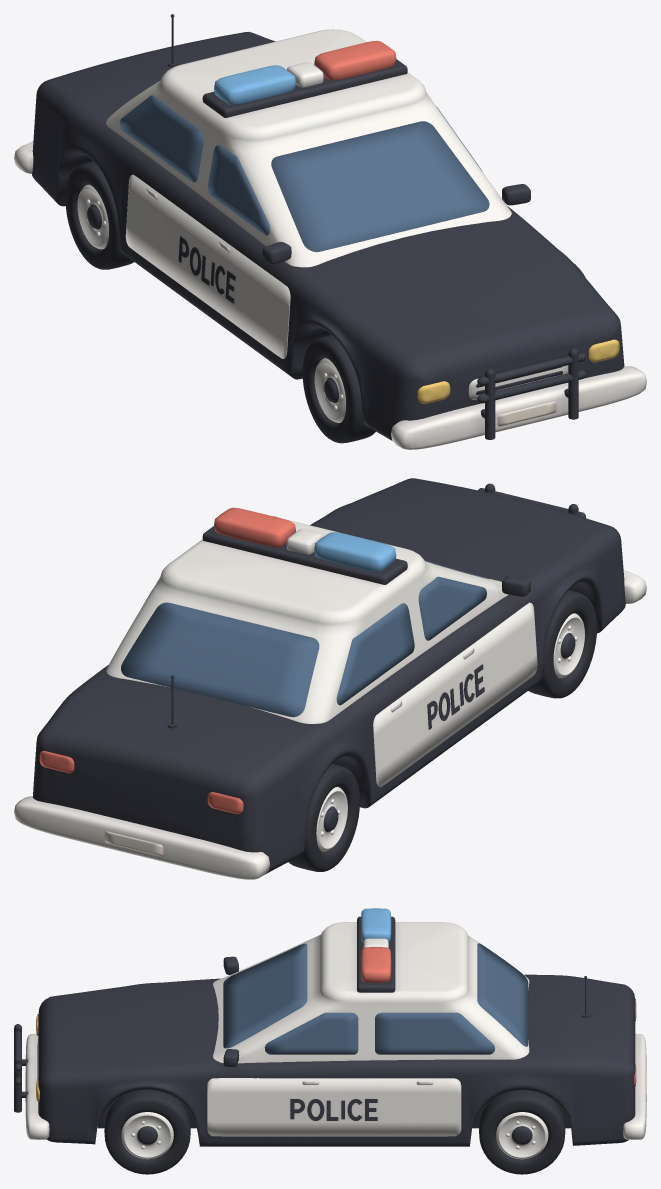
File: police-car.glb
3 renders of one model, top to bottom at view 1: azimuth 30°, elevation 25°; view 2: azimuth 150°, elevation 25°; view 3: azimuth 270°, elevation 25°, orthographic. The views are drawn at different scales.
Parts seen in each view (by area): view 1: police-car_body, police-car_windows, police-car_wheel_fr, police-car_wheel_rr; view 2: police-car_body, police-car_windows, police-car_wheel_rr, police-car_wheel_fr; view 3: police-car_body, police-car_windows, police-car_wheel_fl, police-car_wheel_rl.
Boxes of the visible parts, left/top/right/bottom form: police-car_body: left=14, top=14, right=646, bottom=449; police-car_windows: left=119, top=80, right=489, bottom=252; police-car_wheel_fr: left=302, top=334, right=375, bottom=443; police-car_wheel_rr: left=65, top=161, right=133, bottom=269; police-car_body: left=14, top=478, right=646, bottom=879; police-car_windows: left=121, top=560, right=489, bottom=717; police-car_wheel_rr: left=288, top=763, right=359, bottom=871; police-car_wheel_fr: left=528, top=590, right=596, bottom=698; police-car_body: left=14, top=908, right=646, bottom=1146; police-car_windows: left=223, top=943, right=528, bottom=1054; police-car_wheel_fl: left=104, top=1090, right=190, bottom=1174; police-car_wheel_rl: left=479, top=1090, right=565, bottom=1174.
Size of the model in its own units: 1.9 by 1.66 by 4.98.
5 materials, 1 textured.
